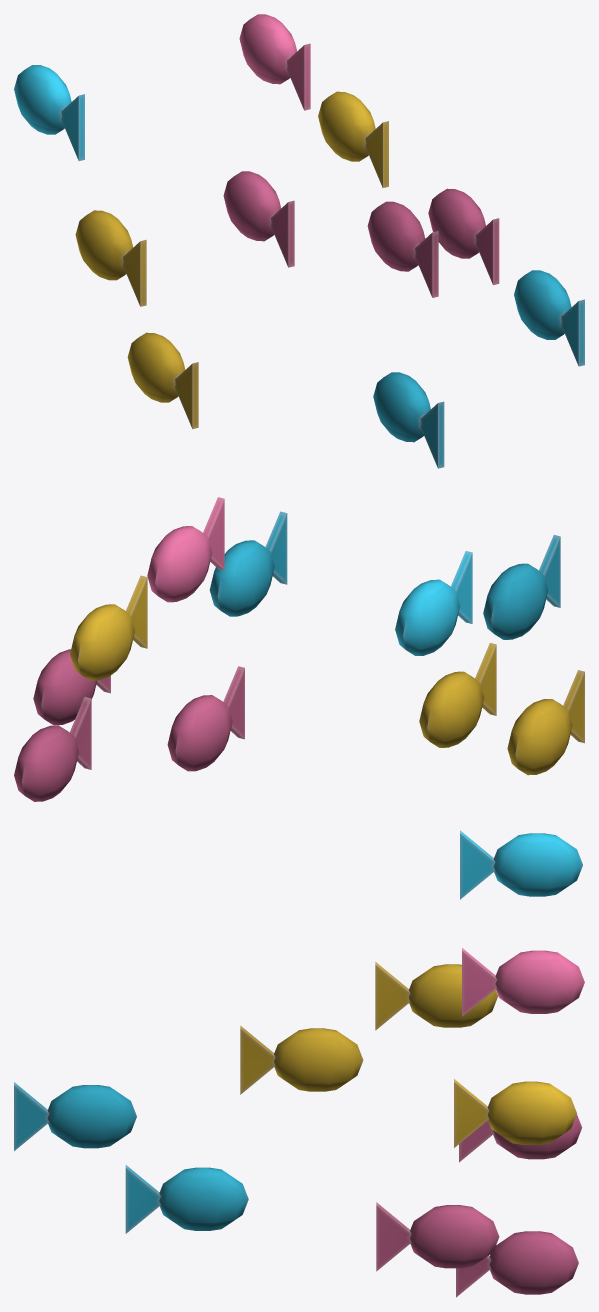
File: mu_fish_school.glb
The picture shows the model from 3 angles, top to bottom: view 1: azimuth 30°, elevation 25°; view 2: azimuth 150°, elevation 25°; view 3: azimuth 270°, elevation 25°; orthographic projection. The views are drawn at different scales.
Visible parts, largest first — view 1: mu_fish_school; view 2: mu_fish_school; view 3: mu_fish_school.
Boxes of the visible parts, left/top/right/bottom form: mu_fish_school: left=14, top=14, right=584, bottom=468; mu_fish_school: left=14, top=497, right=584, bottom=801; mu_fish_school: left=14, top=830, right=584, bottom=1297.
Size of the model in its own units: 2.61 by 1.75 by 3.11.
3 materials, 3 textured.
